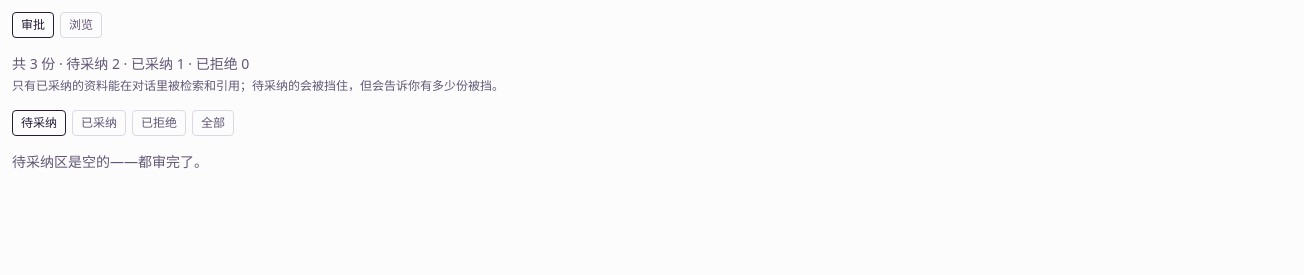
Scenario: TEST-448 统一浏览视图 (CR-20260915-knowledge-library-merge CP-2) › ① 切到「浏览」显示统一列表与类型统计；资料库卡带「查看原文」，知识条目不带
Click the button "浏览" at [81, 25], box [60, 12, 102, 38]
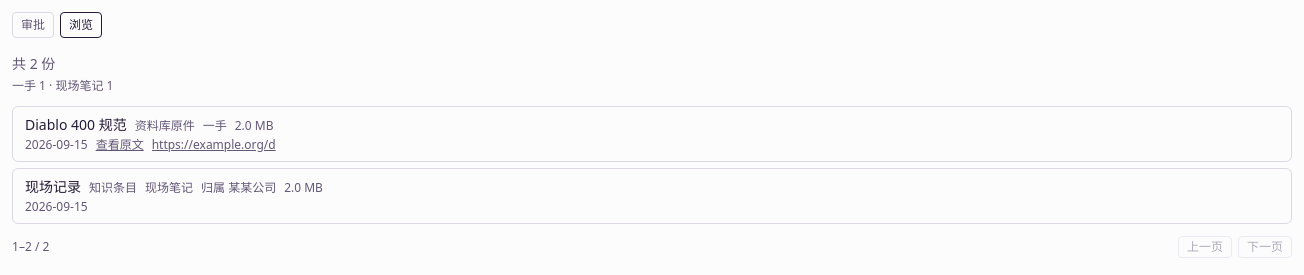
Result: the text "Diablo 400 规范" is shown at [25, 115, 127, 135]
Result: the text "现场记录" is shown at [25, 177, 81, 197]
Result: the text "一手 1 · 现场笔记 1" is shown at [12, 77, 113, 94]
